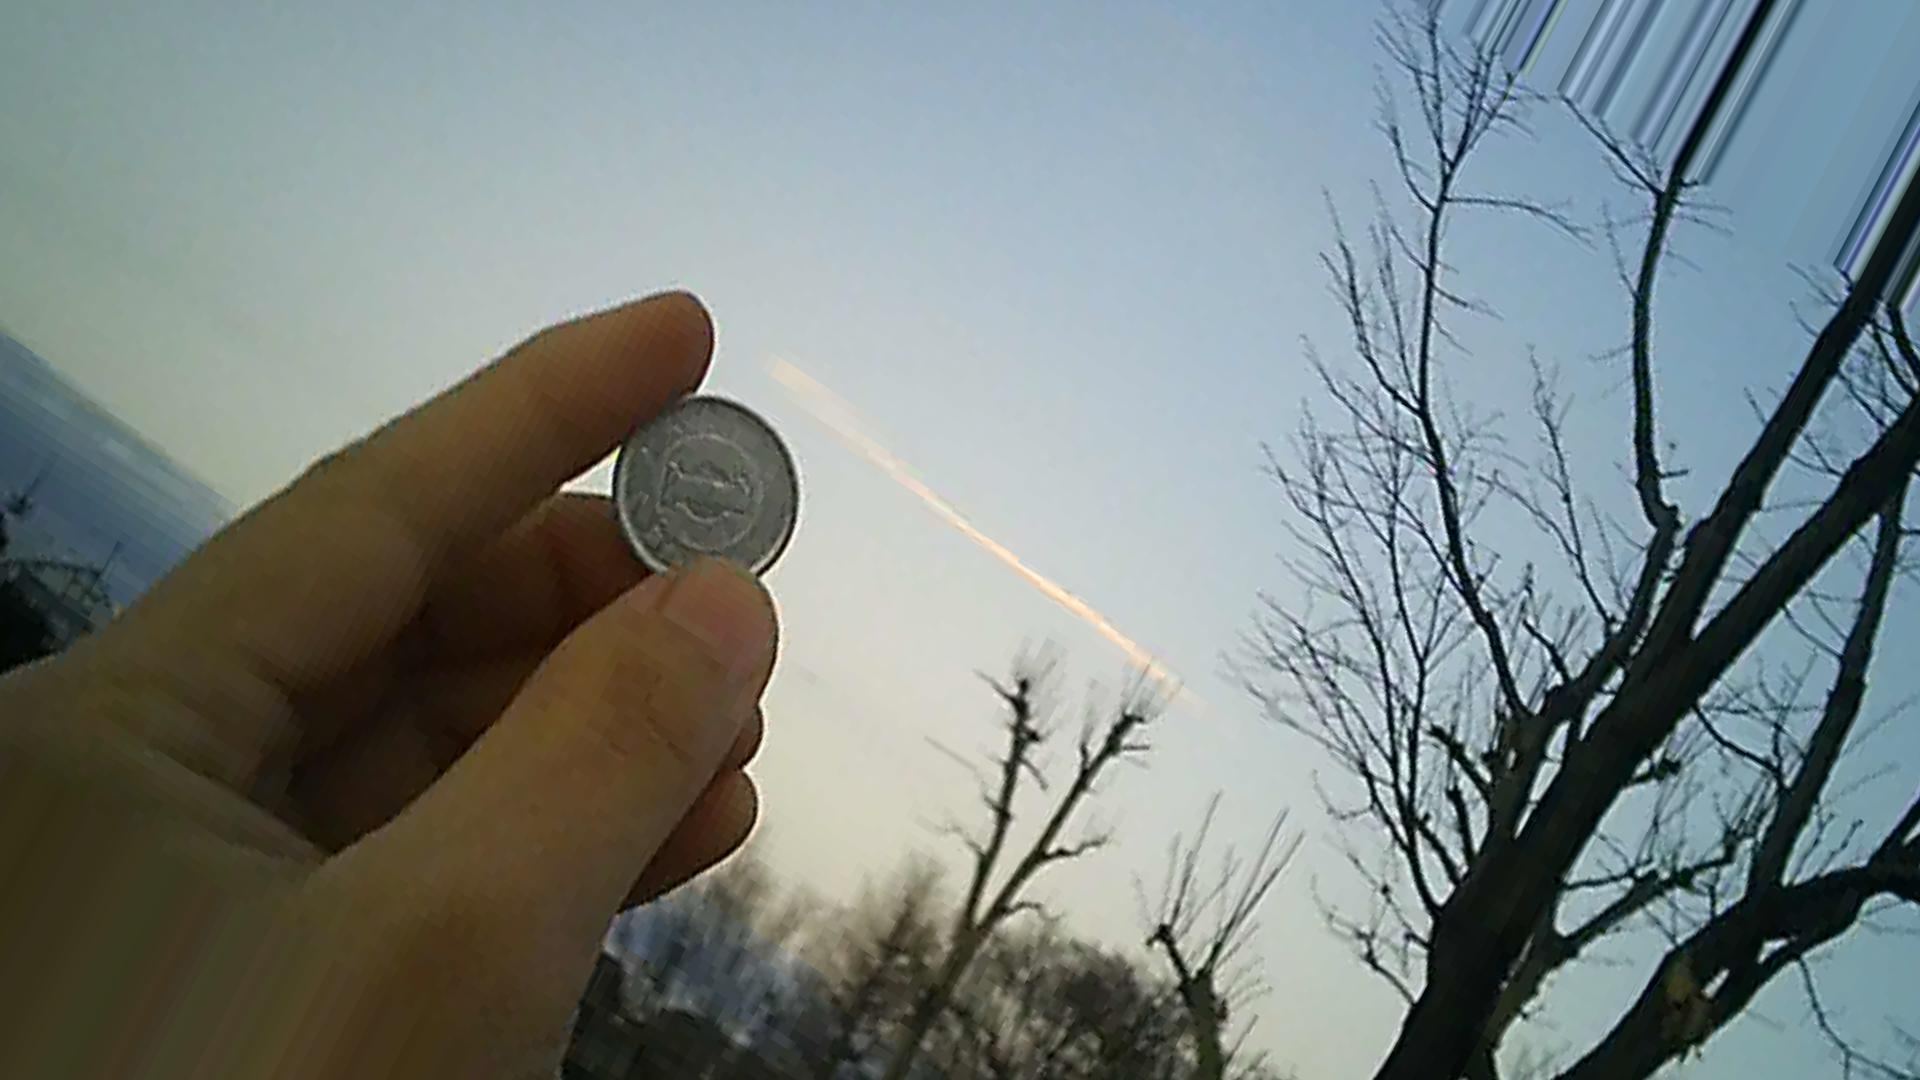1 Yen: (601, 397, 790, 579)
